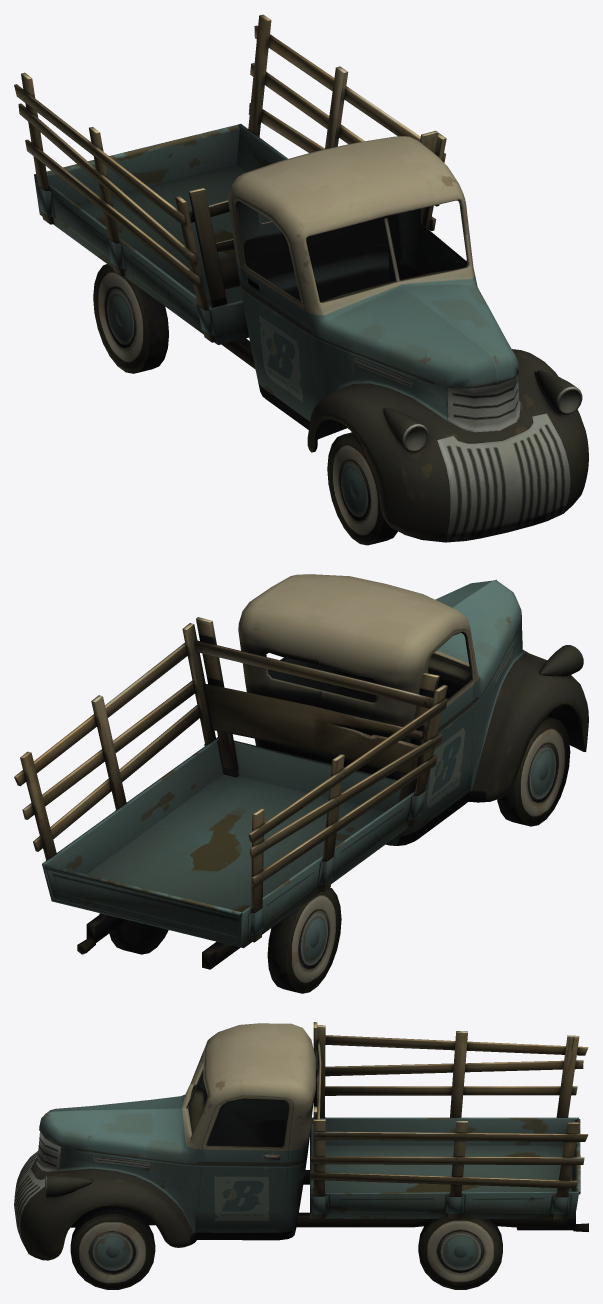
File: Truck.FBX
The picture shows the model from 3 angles, top to bottom: view 1: azimuth 30°, elevation 25°; view 2: azimuth 150°, elevation 25°; view 3: azimuth 270°, elevation 25°; orthographic projection. The views are drawn at different scales.
Visible parts, largest first — view 1: Object001; view 2: Object001; view 3: Object001.
Part boxes in pixels (x1,y1,x2,y2): Object001: (14,14,588,545); Object001: (14,574,588,993); Object001: (14,1022,588,1289).
Size of the model in its own units: 4.61 by 4.68 by 11.69.
